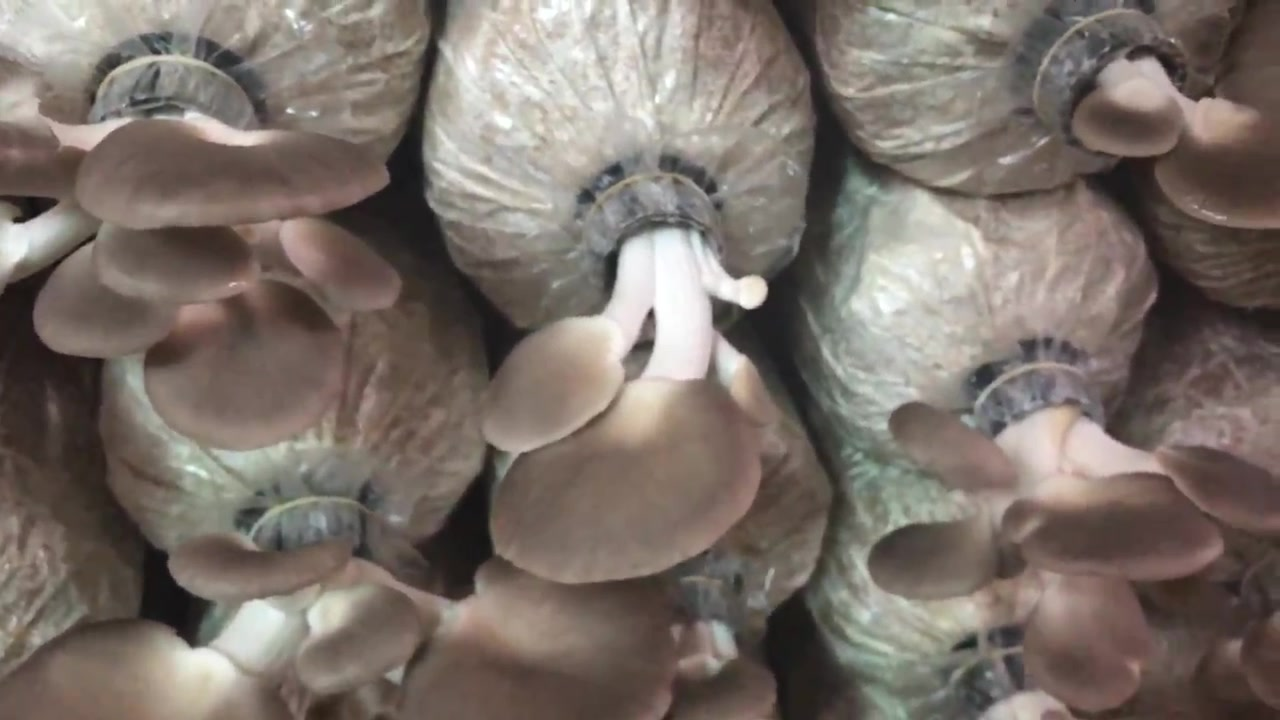nam: (1, 53, 398, 439), (1, 501, 674, 720), (870, 370, 1280, 706), (493, 164, 773, 581), (1039, 13, 1280, 239), (677, 559, 775, 718)
